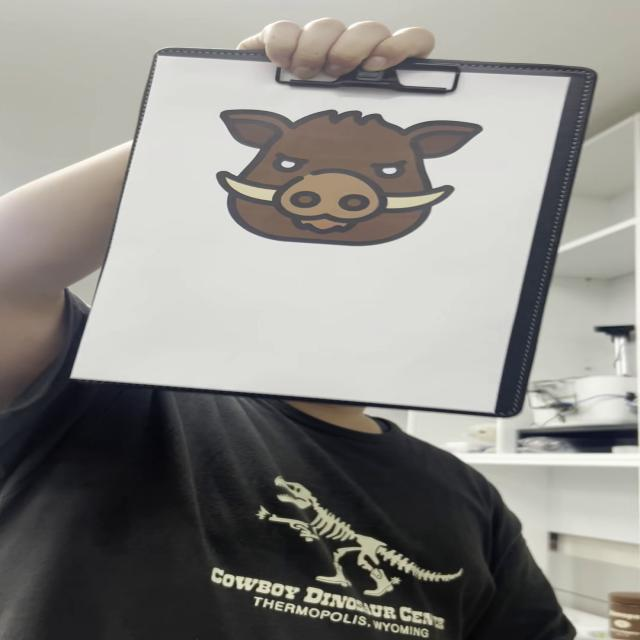animal: (218, 106, 486, 252)
